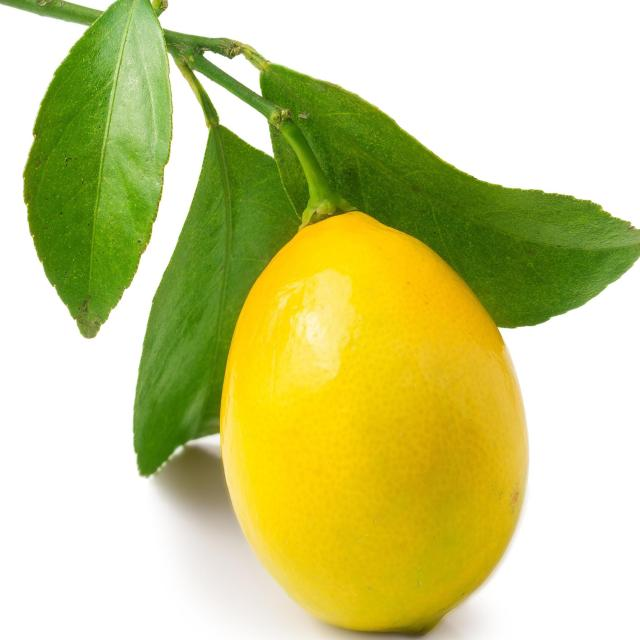lemon: (215, 202, 534, 640)
